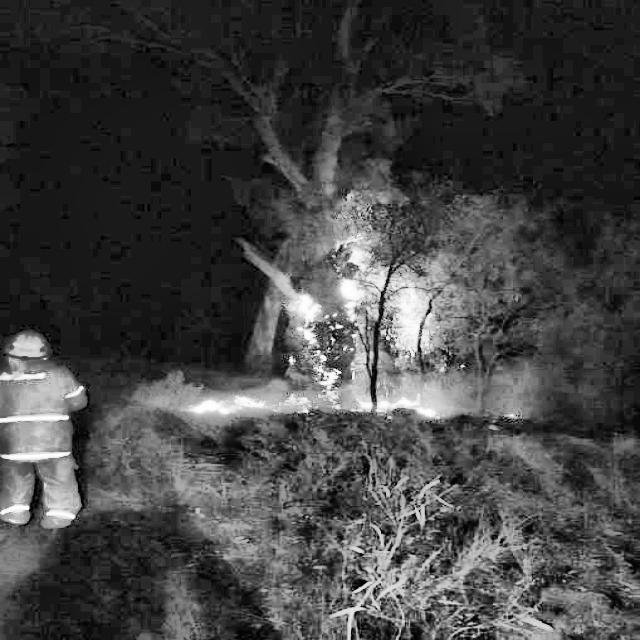fire: (130, 173, 496, 473)
